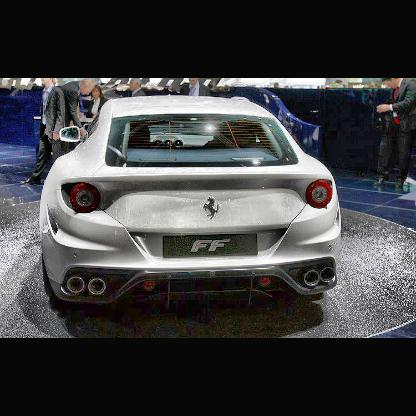Ferrari FF Coupe 2012: (41, 97, 344, 306)
